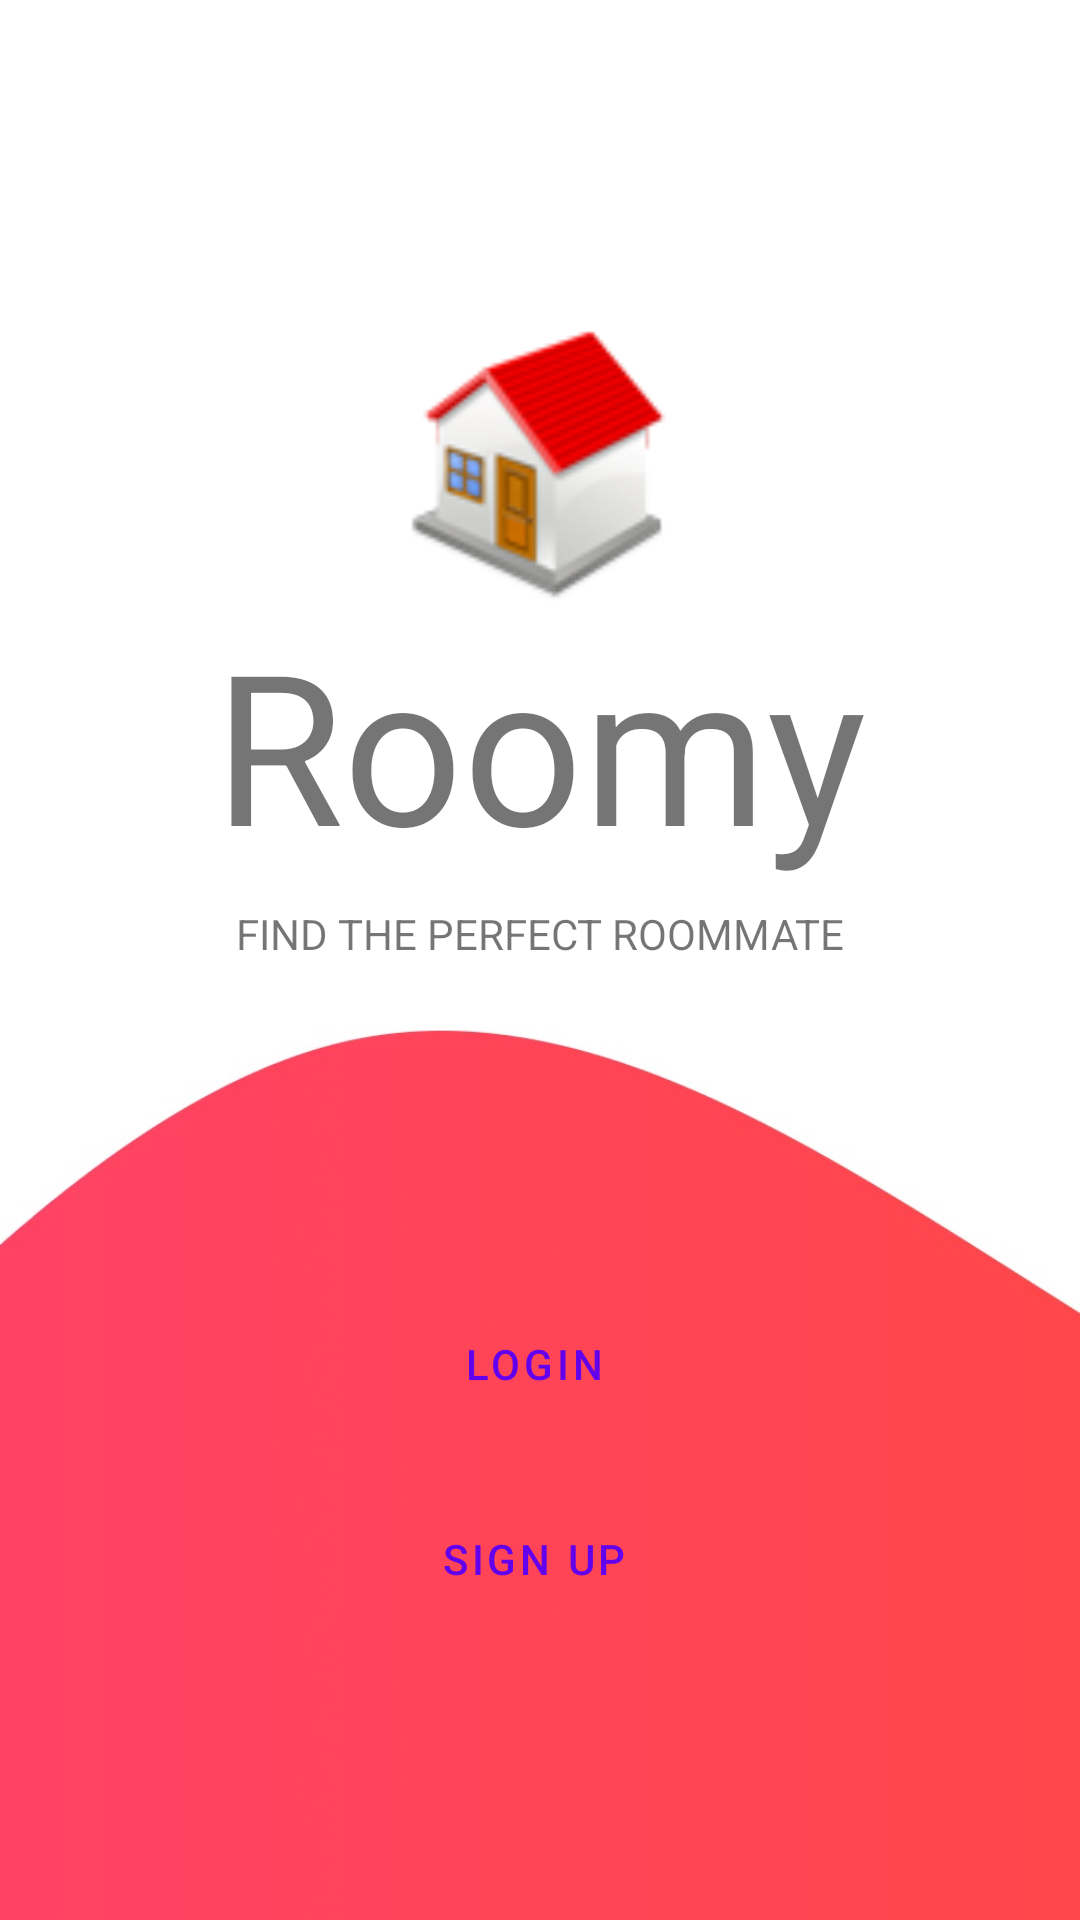

Where to tap for icons on this 1080px×1920px app screen, as (x=x, y=y):
home: (x=538, y=464)
